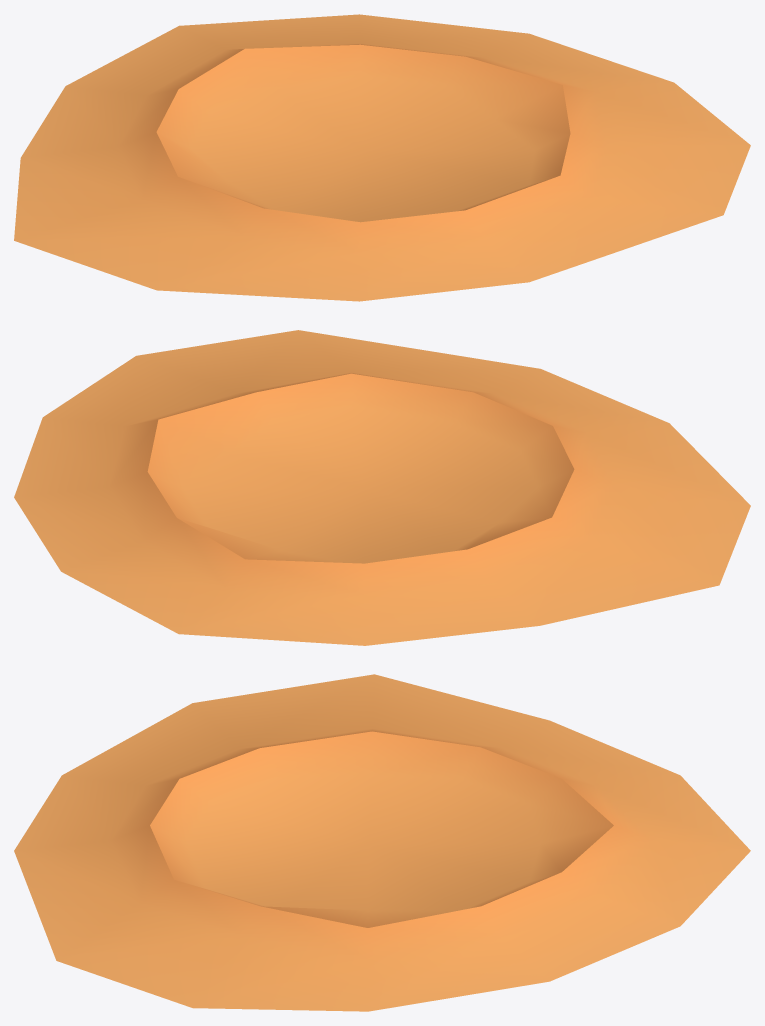
Rendered from Ground_Crater_A_01.fbx.
3 views of the same model, one above another, from view 1: azimuth 30°, elevation 25°; view 2: azimuth 150°, elevation 25°; view 3: azimuth 270°, elevation 25° (orthographic). The views are drawn at different scales.
Parts seen in each view (by area): view 1: Ground_Crater_A_01; view 2: Ground_Crater_A_01; view 3: Ground_Crater_A_01.
Part boxes in pixels (left/top/right/bottom): Ground_Crater_A_01: left=14, top=14, right=750, bottom=301; Ground_Crater_A_01: left=14, top=330, right=750, bottom=645; Ground_Crater_A_01: left=14, top=674, right=750, bottom=1011.
Size of the model in its own units: 409 by 14.96 by 377.
